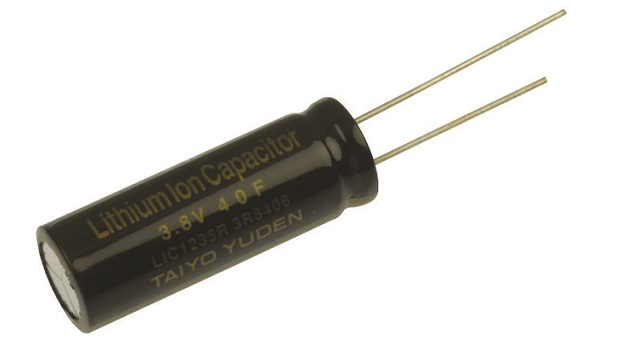capacitor: (16, 58, 456, 351)
